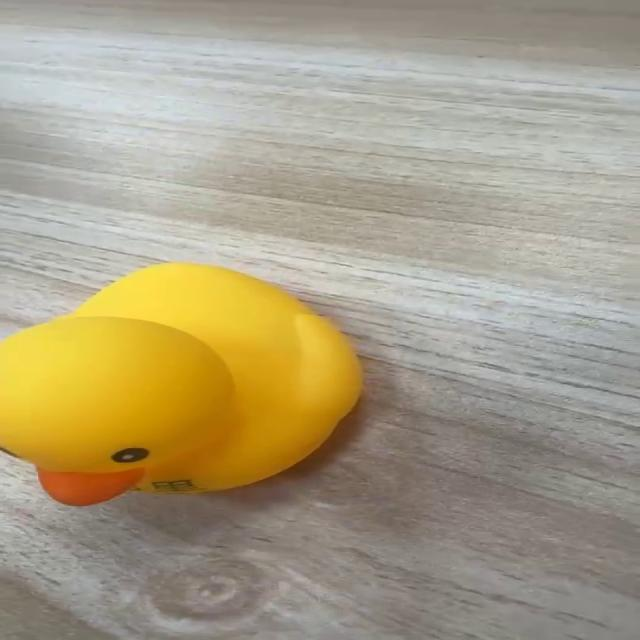yellow_duck: (0, 260, 365, 507)
